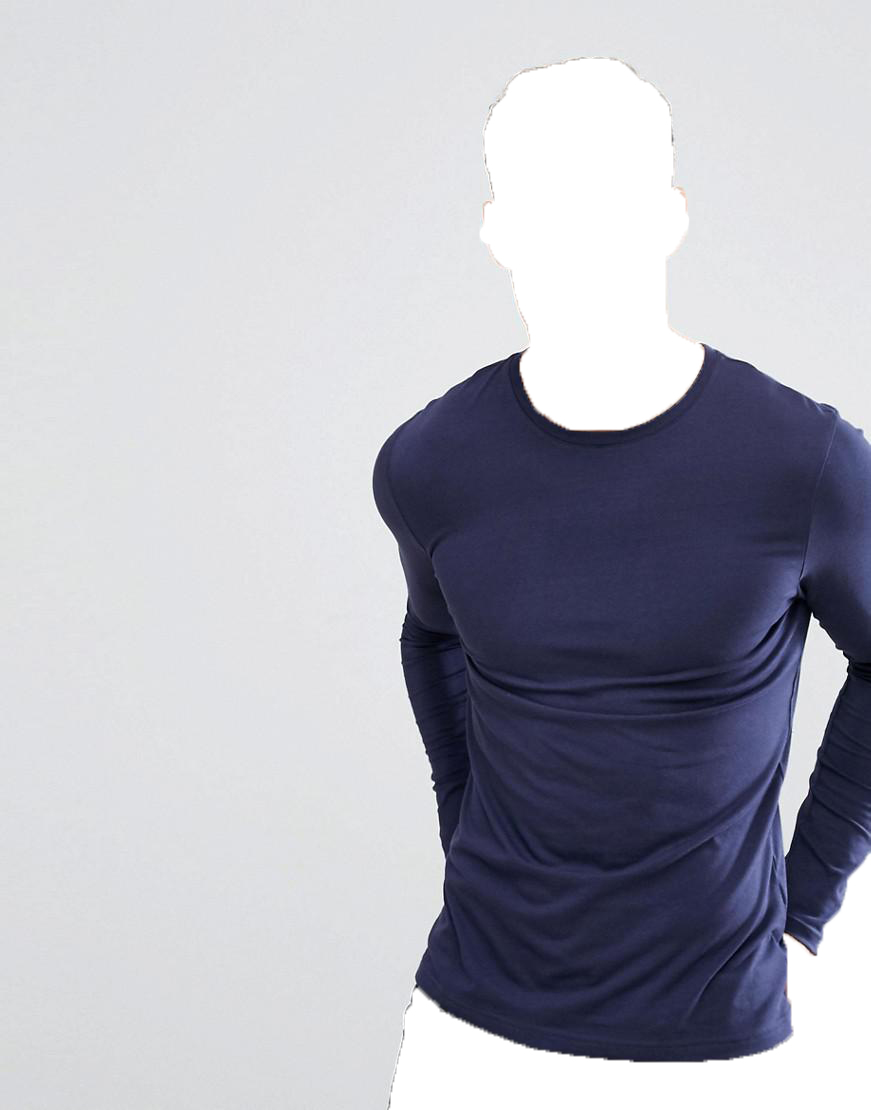teeshirt: (359, 337, 871, 1063)
